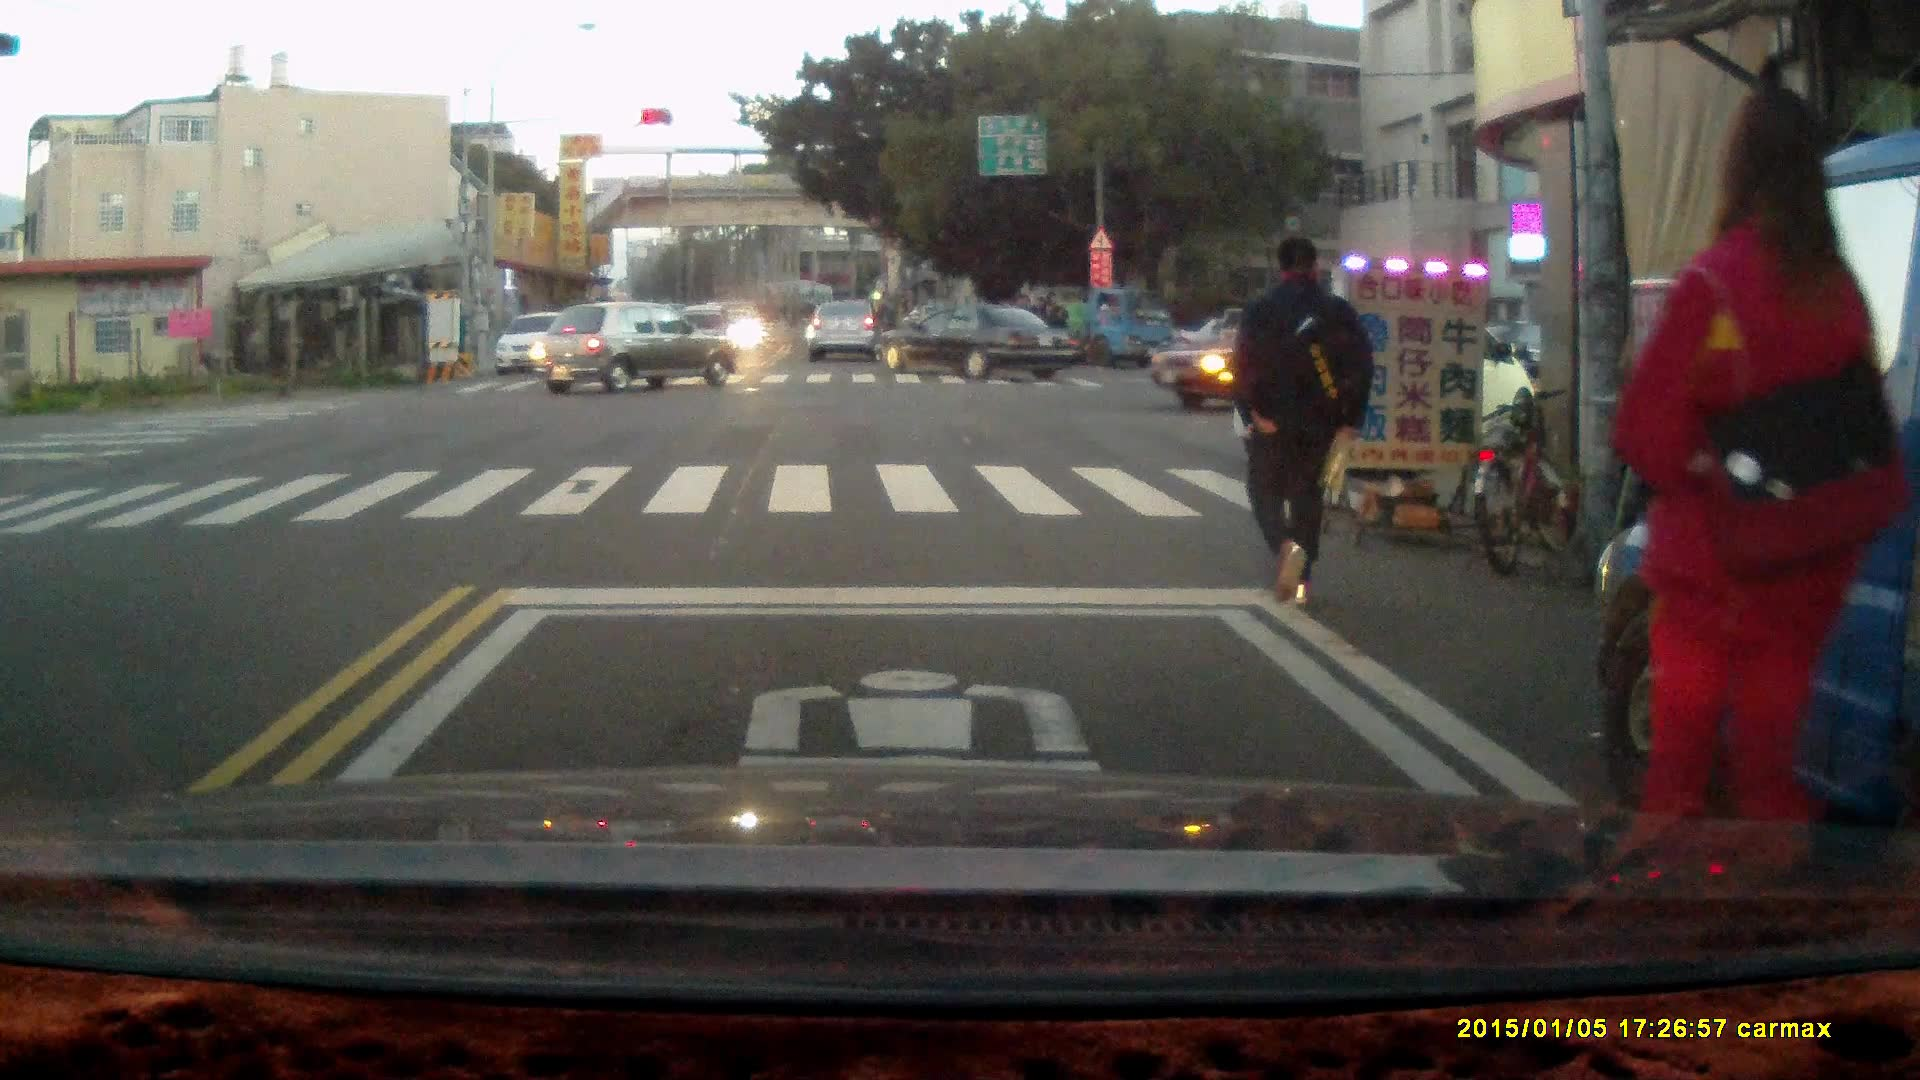pedestrian: (1610, 81, 1909, 856), (1219, 232, 1376, 610), (1040, 287, 1069, 365)
vehicle: (1598, 132, 1920, 854), (1233, 296, 1533, 459), (1147, 304, 1419, 415), (530, 303, 742, 397), (874, 303, 1081, 379), (1002, 284, 1176, 367), (498, 313, 586, 377), (808, 302, 886, 370)
